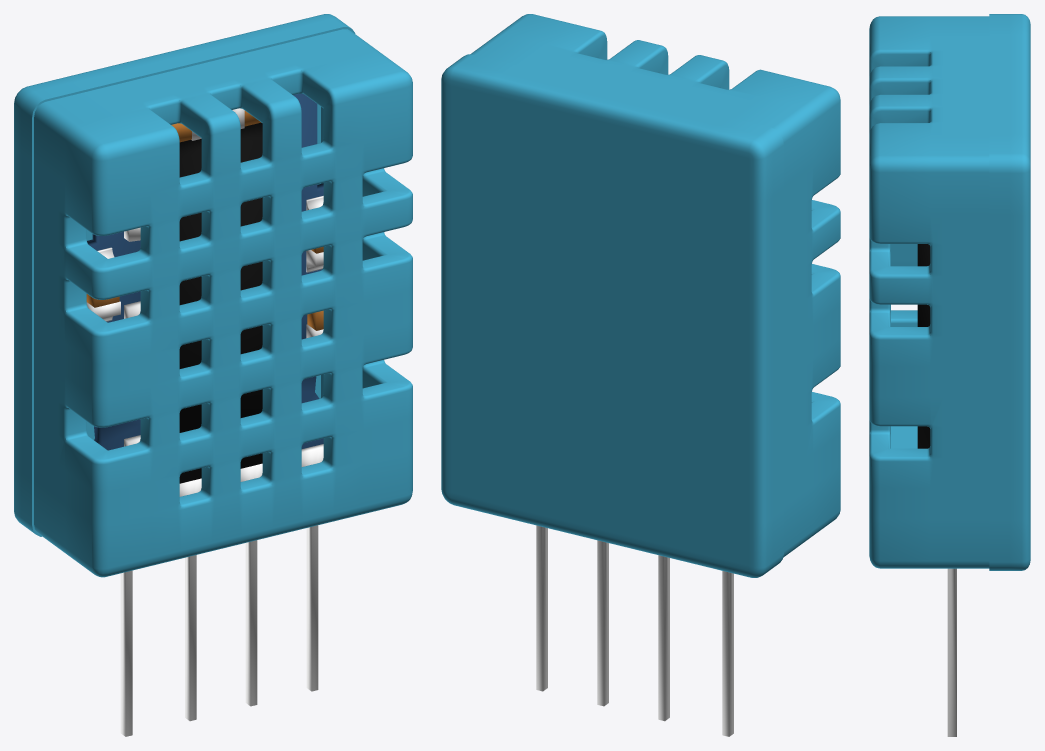
The model's file is SensorDHT11 (New Model).fbx.
3 views of the same model, side by side, from view 1: azimuth 30°, elevation 25°; view 2: azimuth 150°, elevation 25°; view 3: azimuth 270°, elevation 25° (orthographic). The views are drawn at different scales.
Parts seen in each view (by area): view 1: body, Inside; view 2: body, Inside; view 3: body, Inside.
Part boxes in pixels (<box>): body: <box>14,14,412,577</box>; Inside: <box>86,93,323,736</box>; body: <box>441,14,840,577</box>; Inside: <box>536,525,733,736</box>; body: <box>869,14,1030,570</box>; Inside: <box>917,244,956,736</box>.
Size of the model in its own units: 4.86 by 9.11 by 2.2.
